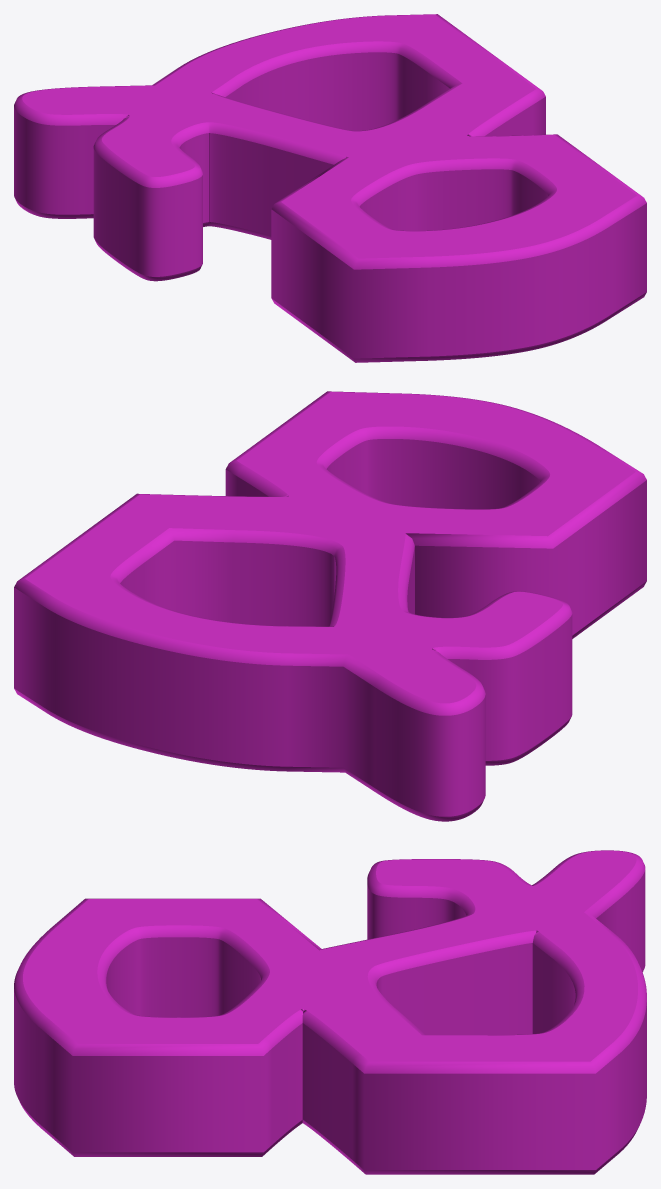
The model's file is Ambersand_CoolFont.fbx.
3 renders of one model, top to bottom at view 1: azimuth 30°, elevation 25°; view 2: azimuth 150°, elevation 25°; view 3: azimuth 270°, elevation 25°, orthographic. The views are drawn at different scales.
Visible parts, largest first — view 1: Ambersand; view 2: Ambersand; view 3: Ambersand.
Part boxes in pixels (<box>): Ambersand: <box>14,14,646,362</box>; Ambersand: <box>14,391,646,821</box>; Ambersand: <box>14,850,646,1174</box>.
Size of the model in its own units: 0.5828 by 0.14 by 0.7133.
